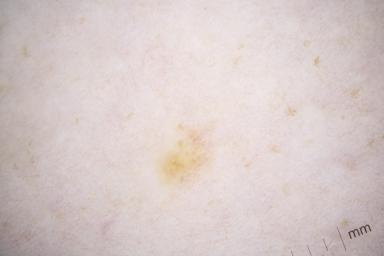melanoma: (166, 127, 209, 181)
